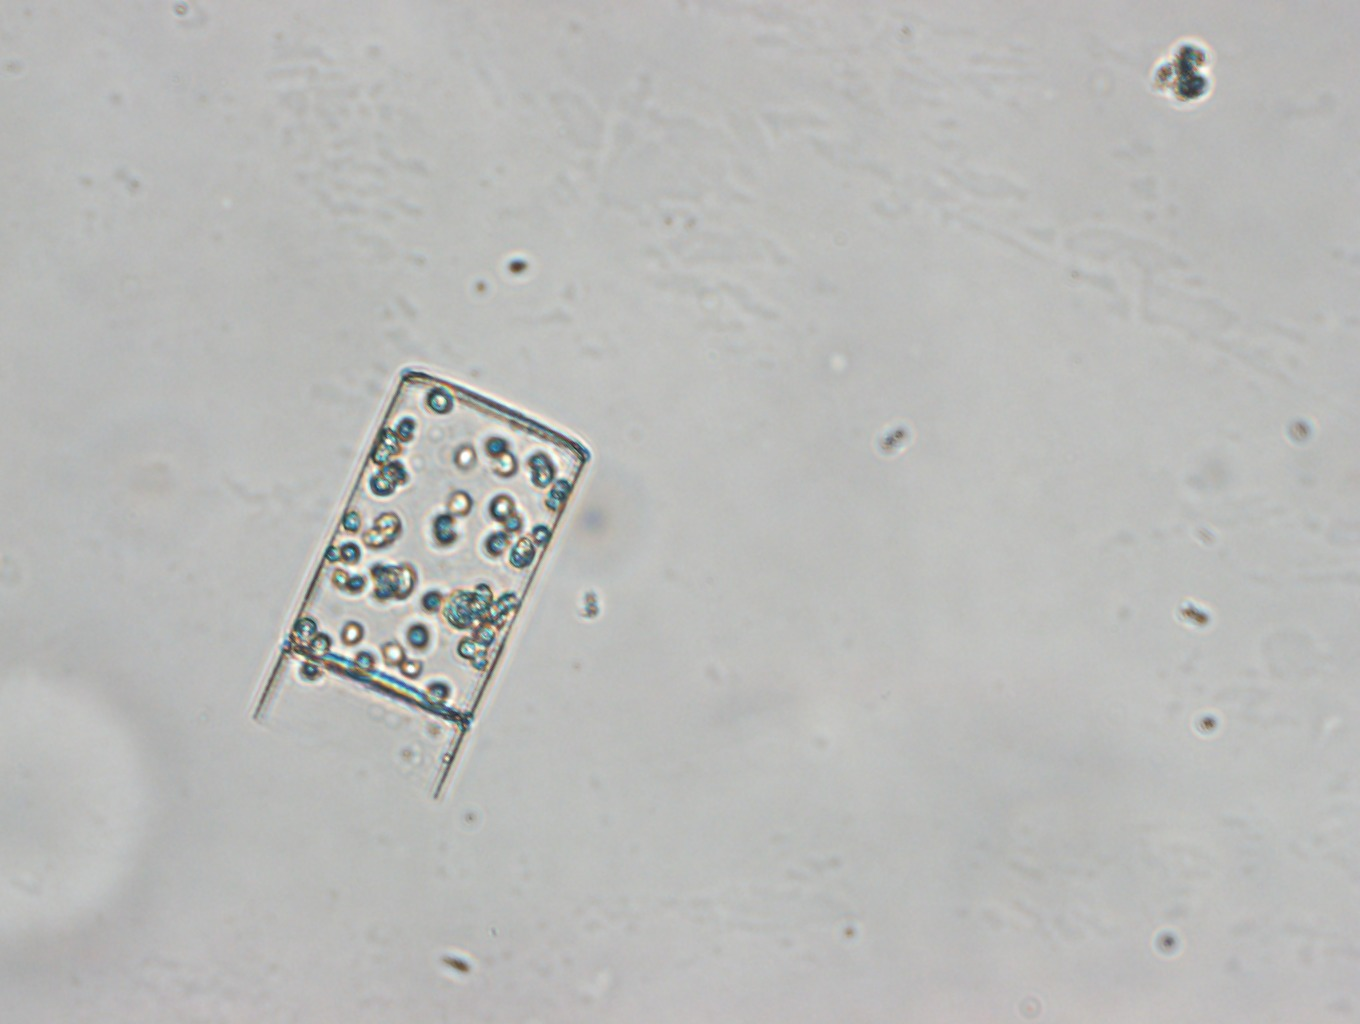guinardia flaccida: (252, 362, 591, 801)
